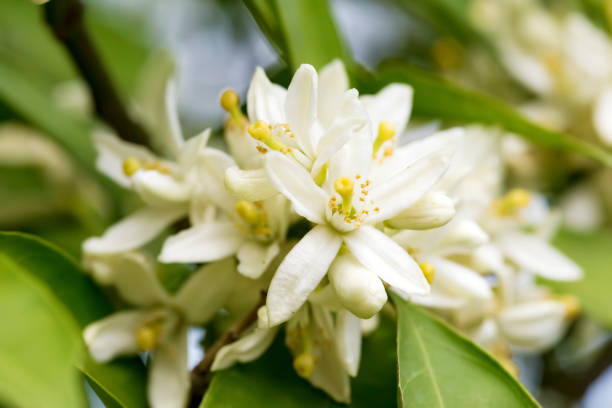flower: (268, 124, 439, 317), (83, 245, 243, 408), (257, 244, 396, 408), (78, 95, 198, 261), (174, 168, 300, 282)
